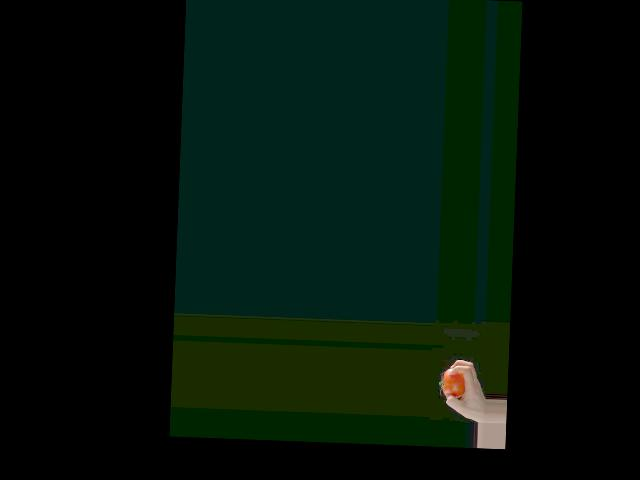tomato: (439, 368, 465, 398)
